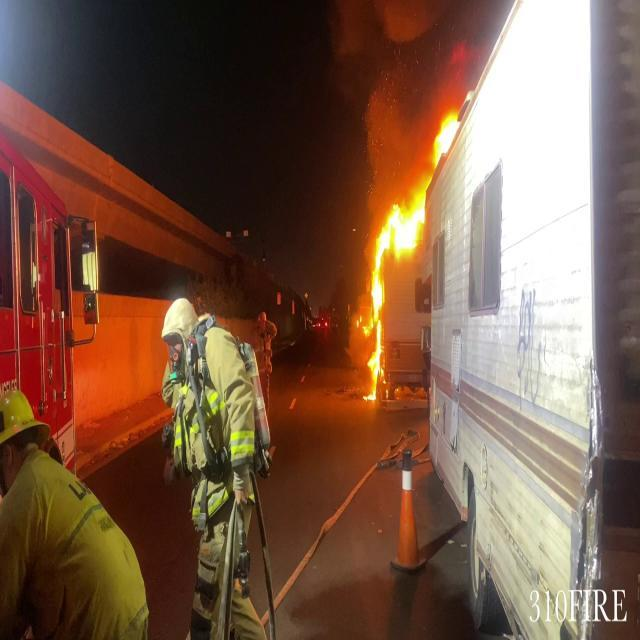Fire: (362, 164, 429, 392), (432, 95, 464, 170)
Smoke: (344, 0, 462, 174)
